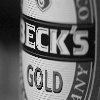beer: (18, 1, 96, 100)
